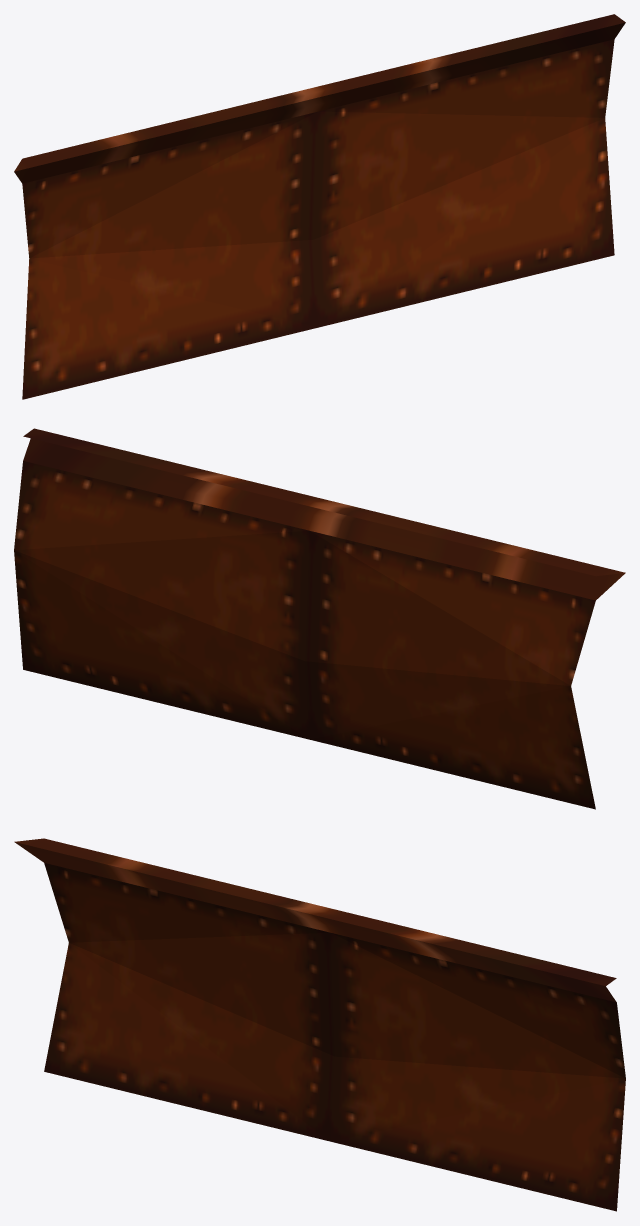
File: W_A2l_xxxx [Rostig]_362.glb
3 renders of one model, top to bottom at view 1: azimuth 30°, elevation 25°; view 2: azimuth 150°, elevation 25°; view 3: azimuth 330°, elevation 25°, orthographic. The views are drawn at different scales.
Visible parts, largest first — view 1: polySurfaceShape787, polySurfaceShape1065; view 2: polySurfaceShape787, polySurfaceShape1065; view 3: polySurfaceShape787, polySurfaceShape1065.
Boxes of the visible parts, <box> form: polySurfaceShape787: <box>22,39,614,399</box>; polySurfaceShape1065: <box>14,14,625,183</box>; polySurfaceShape787: <box>14,461,595,809</box>; polySurfaceShape1065: <box>23,428,625,600</box>; polySurfaceShape787: <box>44,863,625,1211</box>; polySurfaceShape1065: <box>14,838,616,1002</box>.
Bounding box in the file's own units: 1.03 × 0.3891 × 0.0607.
2 materials, 2 textured.
